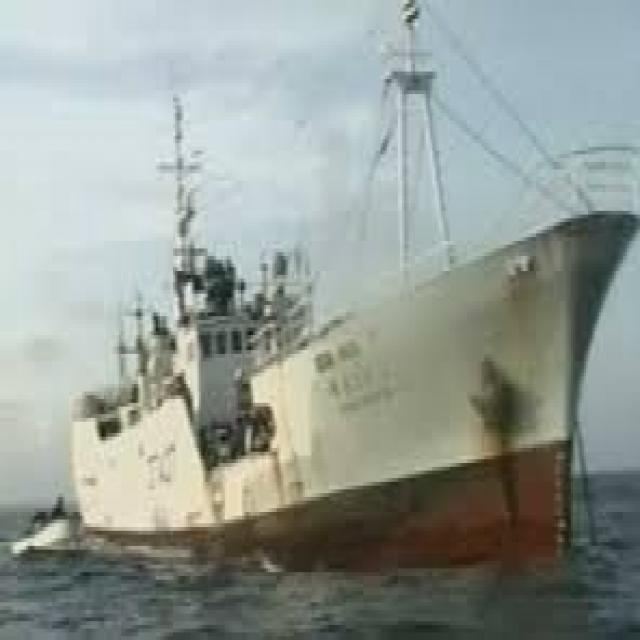Ship: (55, 1, 640, 585)
